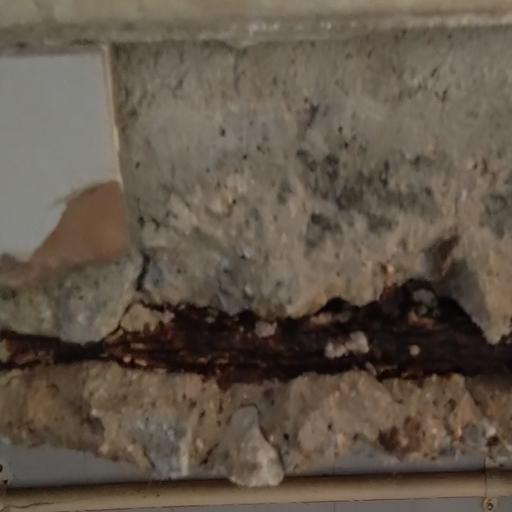spalling: (55, 36, 512, 505)
